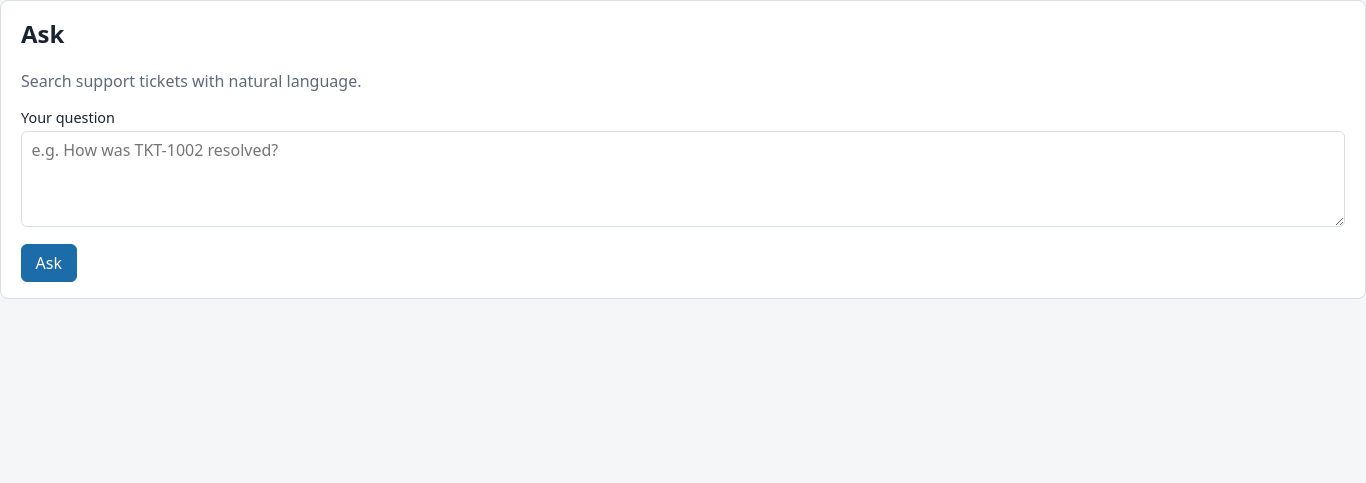
Test: RagAssistant display states › renders ERROR state distinctly
In the text box labelled "Your question": x=683, y=179 [21,131,1345,227], type "q"
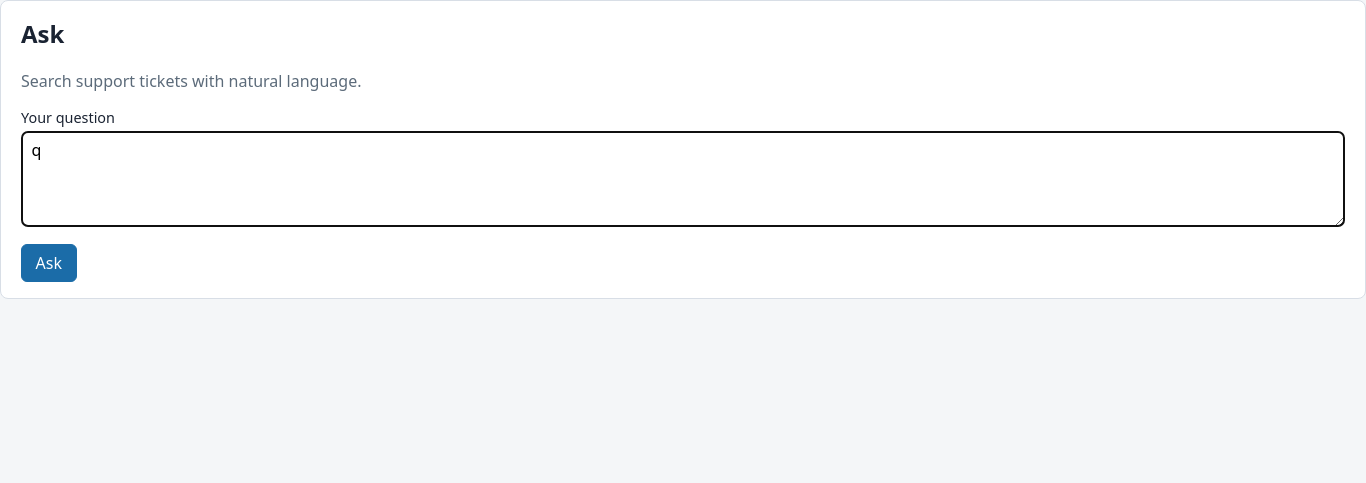
Click the button "Ask": x=49, y=263 [21,244,77,282]
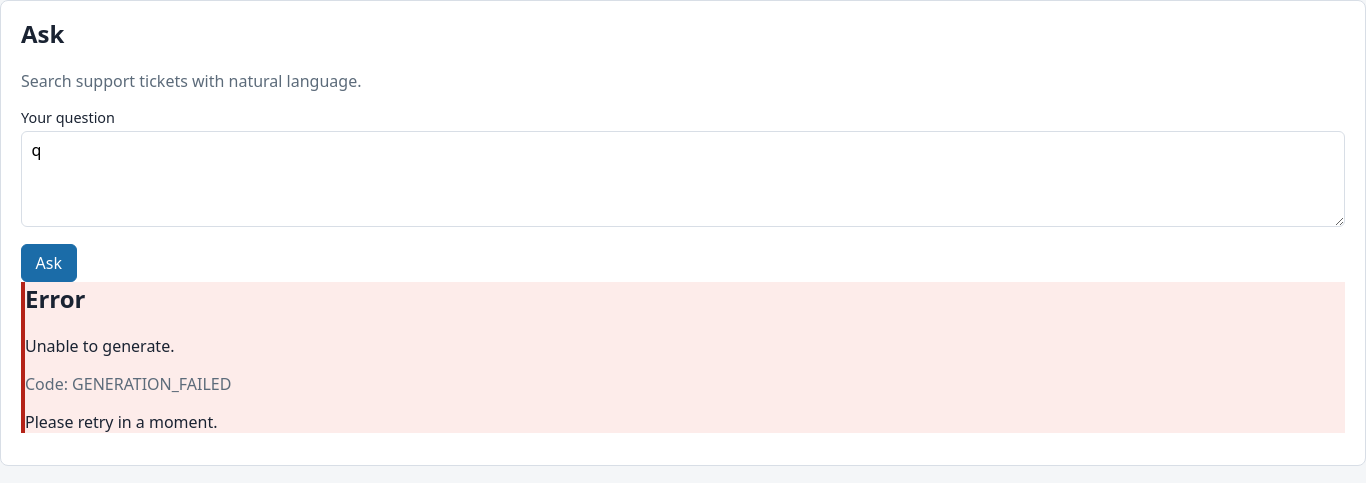
Now the heading "Error" is shown, box [25,282,86,315]
Now the text "Unable to generate." is shown, box [25,335,174,357]
Now the text "Code: GENERATION_FAILED" is shown, box [25,373,232,395]
